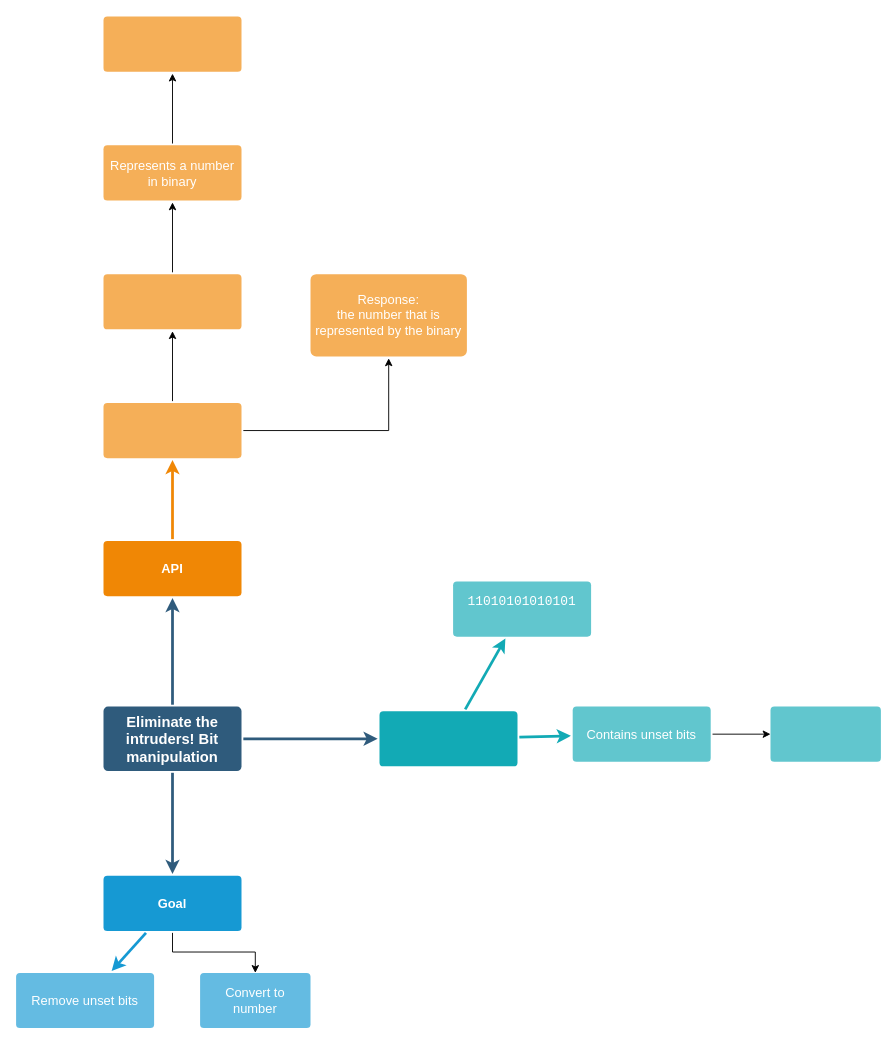
Some shapes in this 896 by 1044 pixel diagram are drawn without their labels. Here are the shapes that lost their labels. From the top down, the box of each, then its label:
(103, 16, 241, 71): Example: 11010101010101
(103, 274, 241, 329): String
(103, 402, 241, 458): POST
(379, 711, 517, 766): Input: String with Number in binary
(770, 706, 880, 761): 0's
